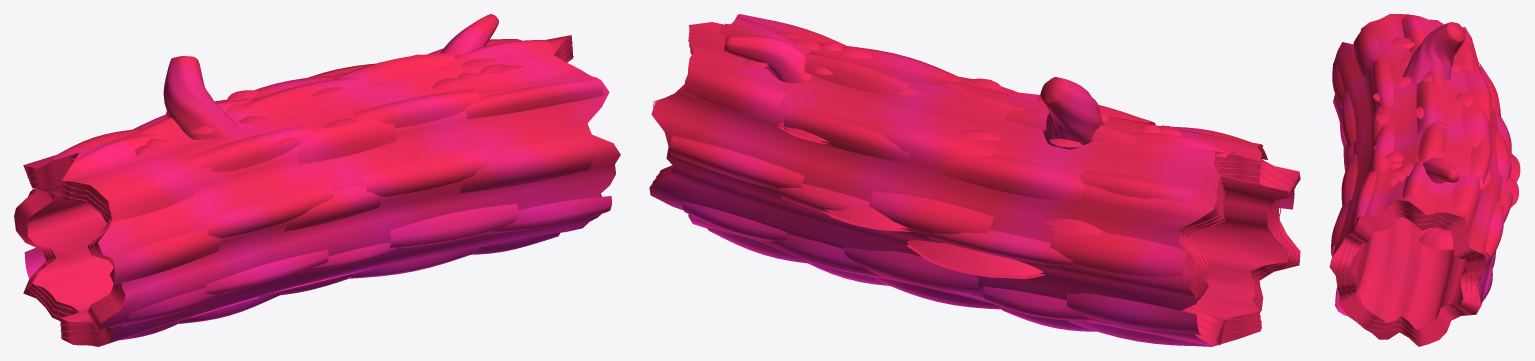
The model's file is SM_LW_FungusLog.fbx.
The picture shows the model from 3 angles, left to right: view 1: azimuth 30°, elevation 25°; view 2: azimuth 150°, elevation 25°; view 3: azimuth 270°, elevation 25°; orthographic projection. The views are drawn at different scales.
Visible parts, largest first — view 1: SM_LW_FungusLog; view 2: SM_LW_FungusLog; view 3: SM_LW_FungusLog.
Part boxes in pixels (x1=…): SM_LW_FungusLog: x1=14, y1=14, x2=620, y2=346; SM_LW_FungusLog: x1=649, y1=14, x2=1300, y2=346; SM_LW_FungusLog: x1=1329, y1=14, x2=1520, y2=346.
Size of the model in its own units: 71.07 by 179 by 78.21.
